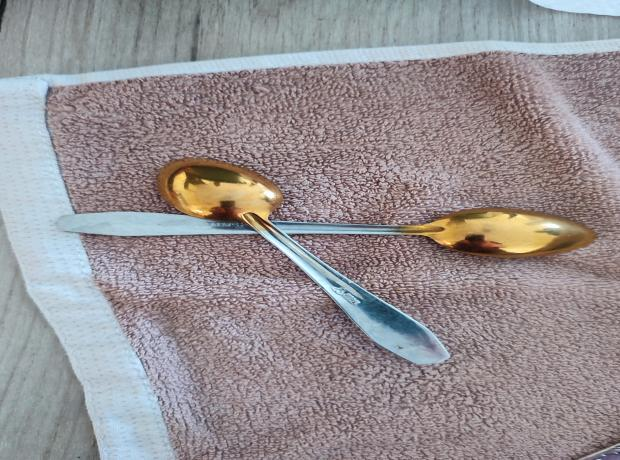metal: (157, 157, 453, 368), (61, 206, 598, 259)
